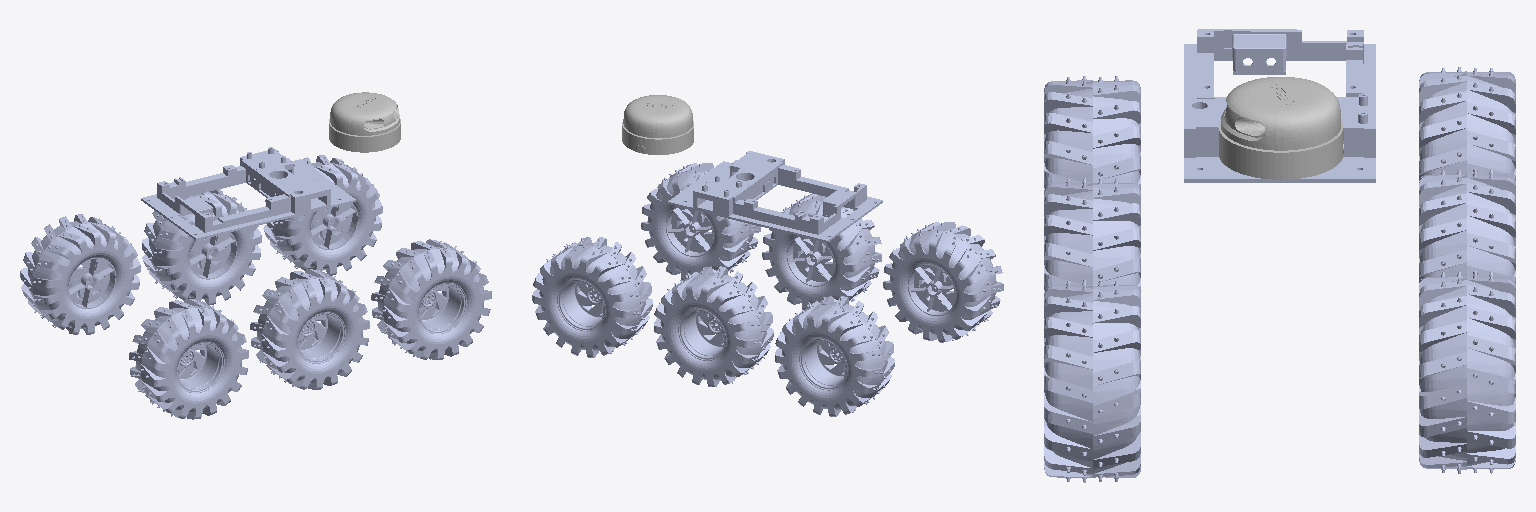
The robot description file, URDF, robot "wildframe":
<robot
  name="wildframe">
  <link
    name="base_link">
    <inertial>
      <origin
        xyz="0 0 0"
        rpy="0 0 0" />
      <mass
        value="0.63788" />
      <inertia
        ixx="0.00082479"
        ixy="-1.6968E-08"
        ixz="-3.4556E-08"
        iyy="0.007599"
        iyz="3.1285E-07"
        izz="0.0073539" />
    </inertial>
    <visual>
      <origin
        xyz="-0.455 0.195 -0.210"
        rpy="0 0 0" />
      <geometry>
        <mesh
          filename="package://edgebot_description/meshes/base_link.STL" />
      </geometry>
      <material
        name="">
        <color
          rgba="0.79216 0.81961 0.93333 1" />
      </material>
    </visual>
    <visual>
      <origin
        xyz="-0.0155 0 0.056"
        rpy="0 0 -4.714" />
      <geometry>
        <mesh
          filename="package://edgebot_description/meshes/frame_link.STL" />
      </geometry>
      <material
        name="">
        <color
          rgba="0.79216 0.81961 0.93333 1" />
      </material>
    </visual>
    <collision>
      <origin
        xyz="0 0 0"
        rpy="0 0 0" />
      <geometry>
        <box size="0.1 0.1 0.1"/>
      </geometry>
    </collision>
  </link>
  
  <link
    name="back_right_motor_link">
    <inertial>
      <origin
        xyz="-0.0081488 -0.0015541 0.024782"
        rpy="0 0 0" />
      <mass
        value="0.46833" />
      <inertia
        ixx="9.0631E-05"
        ixy="-5.5904E-20"
        ixz="-7.078E-13"
        iyy="9.0631E-05"
        iyz="6.1473E-13"
        izz="1.383E-19" />
    </inertial>
    <visual>
      <origin
        xyz="0 0 0"
        rpy="0 0 0" />
      <geometry>
        <mesh
          filename="package://edgebot_description/meshes/wheel.STL" />
      </geometry>
      <material
        name="">
        <color
          rgba="0.79216 0.81961 0.93333 1" />
      </material>
    </visual>
    <collision>
      <origin
        xyz="0 0 0"
        rpy="0 0 0" />
      <geometry>
        <cylinder length="0.06" radius="0.053"/>
      </geometry>
    </collision>
  </link>
  <joint
    name="w1_to_base"
    type="fixed">
    <origin
      xyz="-0.151 -0.09203208473305 0.0056088060751648"
      rpy="-1.57075 0 0" />
    <parent
      link="base_link" />
    <child
      link="back_right_motor_link" />
    <axis
      xyz="0 0 0" />
  </joint>
  <link
    name="back_left_motor_link">
    <inertial>
      <origin
        xyz="-0.0081488 -0.0015541 0.024782"
        rpy="0 0 0" />
      <mass
        value="0.46833" />
      <inertia
        ixx="9.0631E-05"
        ixy="-3.7269E-20"
        ixz="5.5977E-13"
        iyy="9.0631E-05"
        iyz="-8.2807E-13"
        izz="1.3727E-19" />
    </inertial>
    <visual>
      <origin
        xyz="0 0 0"
        rpy="0 0 0" />
      <geometry>
        <mesh
          filename="package://edgebot_description/meshes/wheel.STL" />
      </geometry>
      <material
        name="">
        <color
          rgba="0.79216 0.81961 0.93333 1" />
      </material>
    </visual>
    <collision>
      <origin
        xyz="0 0 0"
        rpy="0 0 0" />
      <geometry>
        <mesh
          filename="package://edgebot_description/meshes/wheel.STL" />
      </geometry>
    </collision>
  </link>
  <joint
    name="w2_to_base"
    type="fixed">
    <origin
      xyz="-0.151 0.09203208473305 0.0056088060751648"
      rpy="1.57075 0 0" />
    <parent
      link="base_link" />
    <child
      link="back_left_motor_link" />
    <axis
      xyz="0 0 0" />
  </joint>
  <link
    name="mid_right_motor_link">
    <inertial>
      <origin
        xyz="-0.0081488 -0.0015541 0.024782"
        rpy="0 0 0" />
      <mass
        value="0.46833" />
      <inertia
        ixx="9.0632E-05"
        ixy="-9.1559E-20"
        ixz="2.3619E-13"
        iyy="9.0632E-05"
        iyz="6.9067E-12"
        izz="6.6868E-19" />
    </inertial>
    <visual>
      <origin
        xyz="0 0 0"
        rpy="0 0 0" />
      <geometry>
        <mesh
          filename="package://edgebot_description/meshes/wheel.STL" />
      </geometry>
      <material
        name="">
        <color
          rgba="0.79216 0.81961 0.93333 1" />
      </material>
    </visual>
    <collision>
      <origin
        xyz="0 0 0"
        rpy="0 0 0" />
      <geometry>
          <cylinder length="0.06" radius="0.053"/>
      </geometry>
    </collision>
  </link>
  <joint
    name="w3_to_base"
    type="fixed">
    <origin
      xyz="0 -0.09203208473305 0.0056088060751648"
      rpy="-1.57075 0 0" />
    <parent
      link="base_link" />
    <child
      link="mid_right_motor_link" />
    <axis
      xyz="0 0 0" />
  </joint>
  <link
    name="mid_left_motor_link">
    <inertial>
      <origin
        xyz="-0.0081488 -0.0015541 0.024782"
        rpy="0 0 0" />
      <mass
        value="0.46833" />
      <inertia
        ixx="9.0631E-05"
        ixy="-6.0775E-20"
        ixz="-5.247E-12"
        iyy="9.0631E-05"
        iyz="-1.0887E-13"
        izz="3.9898E-19" />
    </inertial>
    <visual>
      <origin
        xyz="0 0 0"
        rpy="0 0 0" />
      <geometry>
          <mesh
          filename="package://edgebot_description/meshes/wheel.STL" />
      </geometry>
      <material
        name="">
        <color
          rgba="0.79216 0.81961 0.93333 1" />
      </material>
    </visual>
    <collision>
      <origin
        xyz="0 0 0"
        rpy="0 0 0" />
      <geometry>
          <cylinder length="0.06" radius="0.053"/>
      </geometry>
    </collision>
  </link>
  <joint
    name="w4_to_base"
    type="fixed">
    <origin
      xyz="0 0.09203208473305 0.0056088060751648"
      rpy="1.57075 0 0" />
    <parent
      link="base_link" />
    <child
      link="mid_left_motor_link" />
    <axis
      xyz="0 0 0" />
  </joint>
  <link
    name="front_right_motor_link">
    <inertial>
      <origin
        xyz="-0.0081488 -0.0015541 0.024782"
        rpy="0 0 0" />
      <mass
        value="0.46833" />
      <inertia
        ixx="9.0631E-05"
        ixy="-5.5904E-20"
        ixz="-6.246E-13"
        iyy="9.0631E-05"
        iyz="6.6256E-13"
        izz="1.3593E-19" />
    </inertial>
    <visual>
      <origin
        xyz="0 0 0"
        rpy="0 0 0" />
      <geometry>
         <mesh
          filename="package://edgebot_description/meshes/wheel.STL" />
      </geometry>
      <material
        name="">
        <color
          rgba="0.79216 0.81961 0.93333 1" />
      </material>
    </visual>
    <collision>
      <origin
        xyz="0 0 0"
        rpy="0 0 0" />
      <geometry>
         <cylinder length="0.06" radius="0.053"/>
      </geometry>
    </collision>
  </link>
  <joint
    name="w5_to_base"
    type="fixed">
    <origin
      xyz="0.151 -0.09203208473305 0.0056088060751648"
      rpy="-1.57075 0 0" />
    <parent
      link="base_link" />
    <child
      link="front_right_motor_link" />
    <axis
      xyz="0 0 0" />
  </joint>
  <link
    name="front_left_motor_link">
    <inertial>
      <origin
        xyz="-0.0081488 0.08203208473305 0.024782"
        rpy="0 0 0" />
      <mass
        value="0.46833" />
      <inertia
        ixx="9.0631E-05"
        ixy="-2.7105E-20"
        ixz="5.4851E-13"
        iyy="9.0631E-05"
        iyz="-7.9928E-13"
        izz="1.3666E-19" />
    </inertial>
    <visual>
      <origin
        xyz="0 0 0"
        rpy="0 0 0" />
      <geometry>
        <mesh
          filename="package://edgebot_description/meshes/wheel.STL" />
      </geometry>
      <material
        name="">
        <color
          rgba="0.79216 0.81961 0.93333 1" />
      </material>
    </visual>
    <collision>
      <origin
        xyz="0 0 0"
        rpy="0 0 0" />
      <geometry>
         <cylinder length="0.06" radius="0.053"/>
      </geometry>
    </collision>
  </link>
  <joint
    name="w6_to_base"
    type="fixed">
    <origin
      xyz="0.151 0.09203208473305 0.0056088060751648"
      rpy="1.57075 0 0" />
    <parent
      link="base_link" />
    <child
      link="front_left_motor_link" />
    <axis
      xyz="0 0 0" />
  </joint>


<!-- Camera Center -->
    <link name="zed_camera_center">
        <visual>
            <origin xyz="0 0 0" rpy="0 0 0"/>
            <geometry>
                <mesh filename="package://zed_wrapper/urdf/models/ZED.stl" />
            </geometry>
            <material name="light_grey">
                <color rgba="0.8 0.8 0.8 1"/>
            </material>
        </visual>
    </link>

   <joint name="zed_to_base" type="fixed">
        <parent link="base_link"/>
        <child link="zed_camera_center"/>
        <origin xyz="0.014 0 0.41" rpy="0 0 0" />
    </joint>

<!-- Left Camera -->

    <joint name="zed_left_camera_joint" type="fixed">
        <parent link="zed_camera_center"/>
        <child link="zed_left_camera_frame"/>
        <origin xyz="0 0.06 0" rpy="0 0 0" />
    </joint>

    <link name="zed_left_camera_frame" />

    <joint name="zed_left_camera_optical_joint" type="fixed">
        <origin xyz="0 0 0" rpy="-1.57079632679 0.0 -1.57079632679"/>
        <parent link="zed_left_camera_frame"/>
        <child link="zed_left_camera_optical_frame"/>
    </joint>

    <link name="zed_left_camera_optical_frame"/>

<!-- Right Camera -->

    <joint name="zed_right_camera_joint" type="fixed">
        <parent link="zed_camera_center"/>
        <child link="zed_right_camera_frame"/>
        <origin xyz="0 -0.06 0" rpy="0 0 0" />
    </joint>

    <link name="zed_right_camera_frame" />

    <joint name="zed_right_camera_optical_joint" type="fixed">
        <origin xyz="0 0 0" rpy="-1.57079632679 0.0 -1.57079632679"/>
        <parent link="zed_right_camera_frame"/>
        <child link="zed_right_camera_optical_frame"/>
    </joint>

    <link name="zed_right_camera_optical_frame"/>

<!-- Lidar Link -->
    <link name="laser_frame">
        <visual>
            <origin xyz="0.002 -0.1380 -0.11" rpy="0 3.15 0"/>
            <geometry>
                <mesh
          	filename="package://edgebot_description/meshes/lidar_link.STL" />
            </geometry>
            <material name="light_grey">
                <color rgba="0.8 0.8 0.8 1"/>
            </material>
        </visual>
    </link>
    <joint name="lidar_to_base" type="fixed">
        <parent link="base_link"/>
        <child link="laser_frame"/>
        <origin xyz="0.125 0 0.16" rpy="0 0 3.15" />
    </joint>


</robot>

--- Facts derived from the render (not from the file) ---
The picture shows the robot from 3 angles, left to right: view 1: azimuth 30°, elevation 25°; view 2: azimuth 150°, elevation 25°; view 3: azimuth 270°, elevation 25°; orthographic projection.
Robot: wildframe — 13 links, 12 joints (12 fixed); root link base_link; default pose: all joints at 0.
Links seen in each view (by area): view 1: back_left_motor_link, mid_right_motor_link, front_right_motor_link, back_right_motor_link, base_link, mid_left_motor_link, front_left_motor_link, laser_frame; view 2: front_left_motor_link, back_left_motor_link, mid_left_motor_link, back_right_motor_link, base_link, mid_right_motor_link, front_right_motor_link, laser_frame; view 3: front_right_motor_link, front_left_motor_link, base_link, laser_frame, mid_left_motor_link, back_left_motor_link, back_right_motor_link, mid_right_motor_link.
Boxes of the visible links, x1,y1,x2,y2 form: back_left_motor_link: [20, 214, 140, 334]; mid_right_motor_link: [250, 269, 369, 389]; front_right_motor_link: [371, 239, 491, 359]; back_right_motor_link: [129, 298, 248, 419]; base_link: [141, 147, 355, 240]; mid_left_motor_link: [142, 189, 261, 304]; front_left_motor_link: [263, 155, 382, 275]; laser_frame: [329, 92, 400, 152]; front_left_motor_link: [532, 237, 652, 357]; back_left_motor_link: [775, 296, 894, 416]; mid_left_motor_link: [654, 266, 773, 386]; back_right_motor_link: [883, 222, 1003, 342]; base_link: [668, 151, 882, 242]; mid_right_motor_link: [762, 193, 881, 309]; front_right_motor_link: [641, 163, 760, 280]; laser_frame: [622, 95, 693, 154]; front_right_motor_link: [1044, 280, 1140, 482]; front_left_motor_link: [1419, 272, 1515, 473]; base_link: [1184, 29, 1375, 182]; laser_frame: [1219, 77, 1343, 179]; mid_left_motor_link: [1419, 169, 1515, 283]; back_left_motor_link: [1419, 67, 1515, 180]; back_right_motor_link: [1044, 76, 1140, 189]; mid_right_motor_link: [1044, 178, 1140, 292].
Size in the robot's own frame: 0.428 by 0.2941 by 0.254 metres.
Meshes: 5 distinct files referenced, 8 mesh visuals loaded (3 binary STL); not drawn: 2 (reference not matched to a file when rendering).